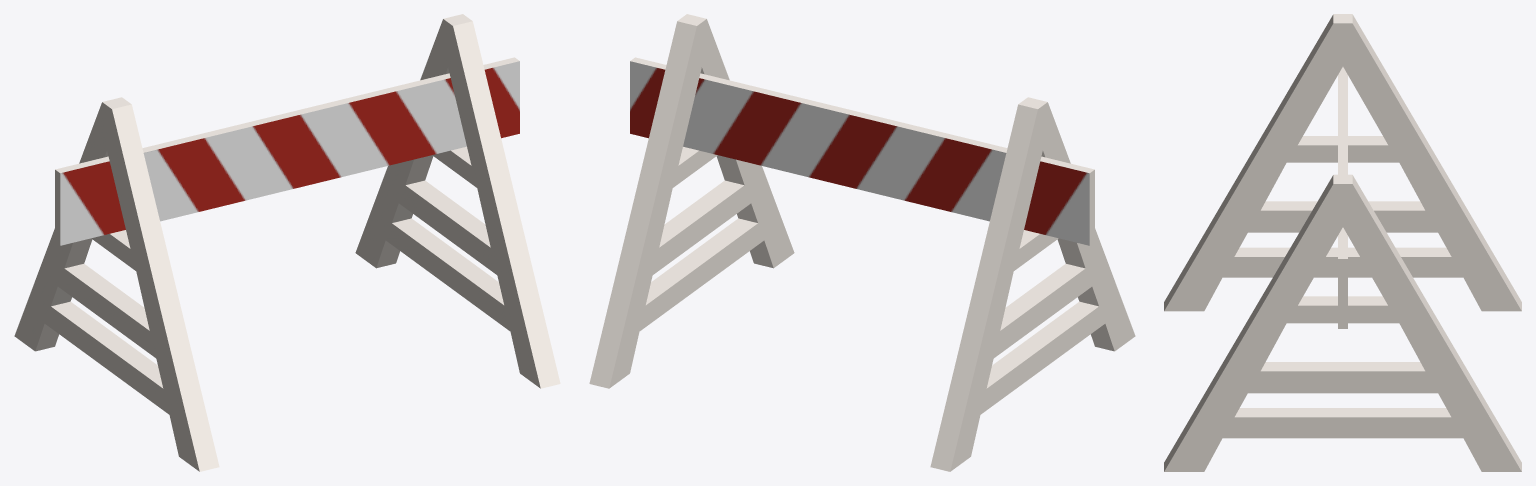
File: LP_Road Barrier_03.fbx
3 views of the same model, side by side, from view 1: azimuth 30°, elevation 25°; view 2: azimuth 150°, elevation 25°; view 3: azimuth 270°, elevation 25° (orthographic). The views are drawn at different scales.
Visible parts, largest first — view 1: LP_Road Barrier_03; view 2: LP_Road Barrier_03; view 3: LP_Road Barrier_03.
Part boxes in pixels (box(x1,y1,x2,y2)): LP_Road Barrier_03: box(14, 14, 560, 471); LP_Road Barrier_03: box(589, 14, 1135, 471); LP_Road Barrier_03: box(1164, 14, 1521, 471).
Size of the model in its own units: 1.75 by 1.09 by 1.22.
